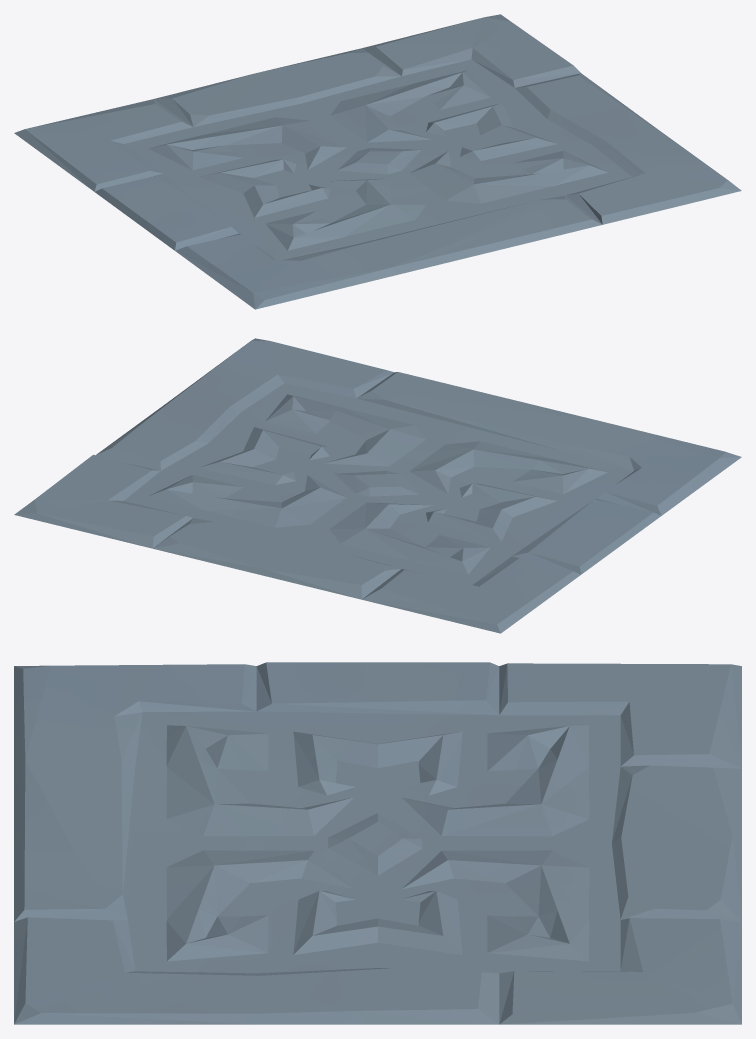
Rendered from Floor_109.fbx.
3 views of the same model, one above another, from view 1: azimuth 30°, elevation 25°; view 2: azimuth 150°, elevation 25°; view 3: azimuth 270°, elevation 25° (orthographic). The views are drawn at different scales.
Parts seen in each view (by area): view 1: terrain_ground_109; view 2: terrain_ground_109; view 3: terrain_ground_109.
Part boxes in pixels (left/top/right/bottom): terrain_ground_109: left=14, top=14, right=741, bottom=309; terrain_ground_109: left=14, top=338, right=741, bottom=633; terrain_ground_109: left=14, top=662, right=741, bottom=1024.
Size of the model in its own units: 870 by 12.05 by 746.
1 material, 1 textured.
